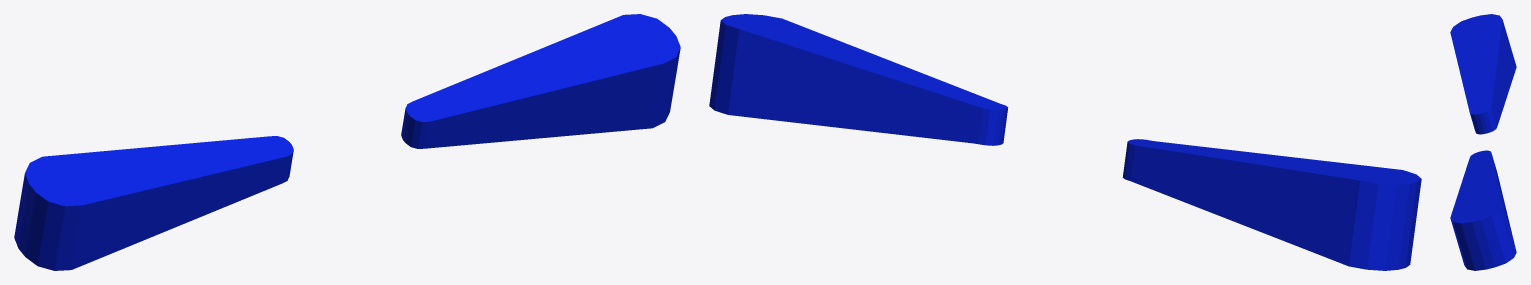
The model's file is SceneADDS.fbx.
3 views of the same model, side by side, from view 1: azimuth 30°, elevation 25°; view 2: azimuth 150°, elevation 25°; view 3: azimuth 270°, elevation 25° (orthographic). The views are drawn at different scales.
Visible parts, largest first — view 1: Cube.020, Cube.022; view 2: Cube.022, Cube.020; view 3: Cube.020, Cube.022.
Part boxes in pixels (x1,y1,x2,y2): Cube.020: (14, 136, 293, 270); Cube.022: (401, 14, 680, 148); Cube.022: (709, 14, 1008, 145); Cube.020: (1122, 139, 1421, 270); Cube.020: (1450, 14, 1516, 134); Cube.022: (1450, 150, 1516, 270).
Bounding box in the file's own units: 26.53 × 3.64 × 3.64.
